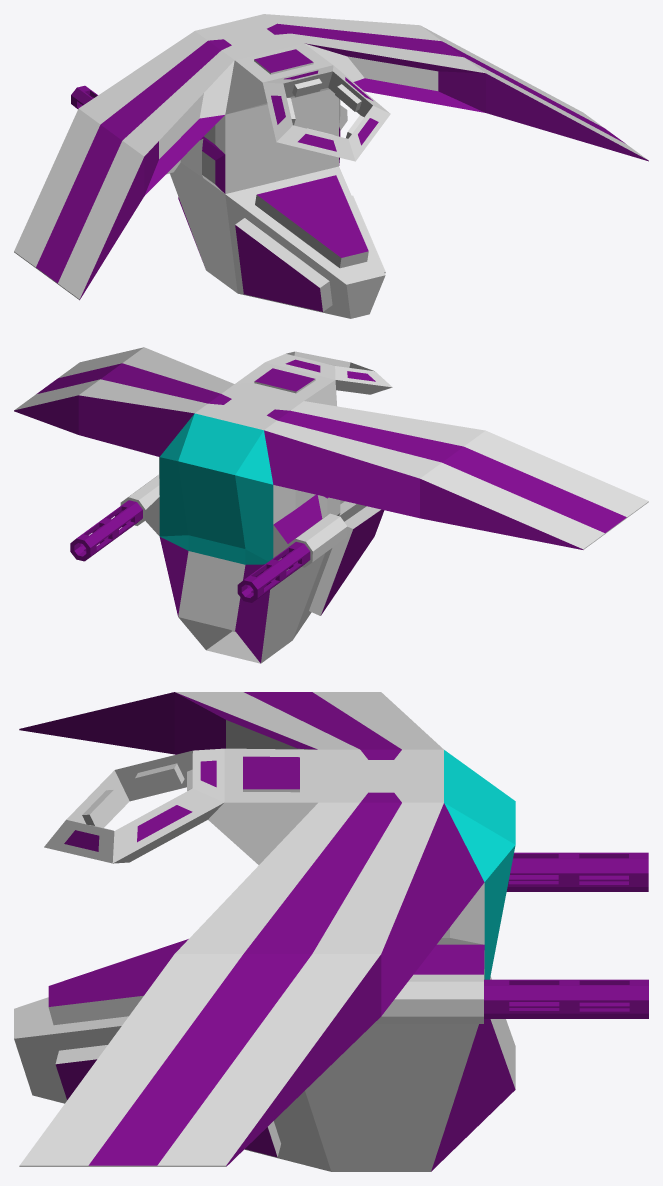
Rendered from Player spaceship model 1.fbx.
3 views of the same model, one above another, from view 1: azimuth 30°, elevation 25°; view 2: azimuth 150°, elevation 25°; view 3: azimuth 270°, elevation 25° (orthographic). The views are drawn at different scales.
Visible parts, largest first — view 1: Cube.024; view 2: Cube.024; view 3: Cube.024.
Part boxes in pixels (bbox=[...]): Cube.024: bbox=[14, 14, 648, 318]; Cube.024: bbox=[14, 347, 648, 663]; Cube.024: bbox=[14, 692, 648, 1171].
Size of the model in its own units: 1000 by 406 by 614.
